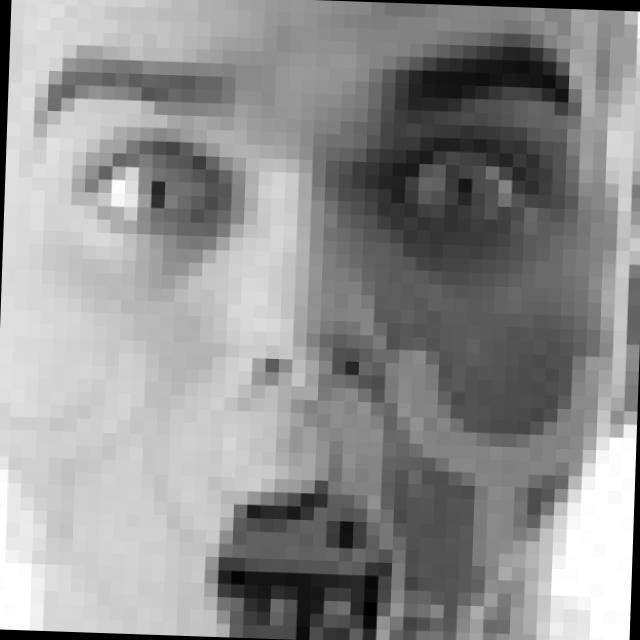surprise: (14, 21, 582, 640)
